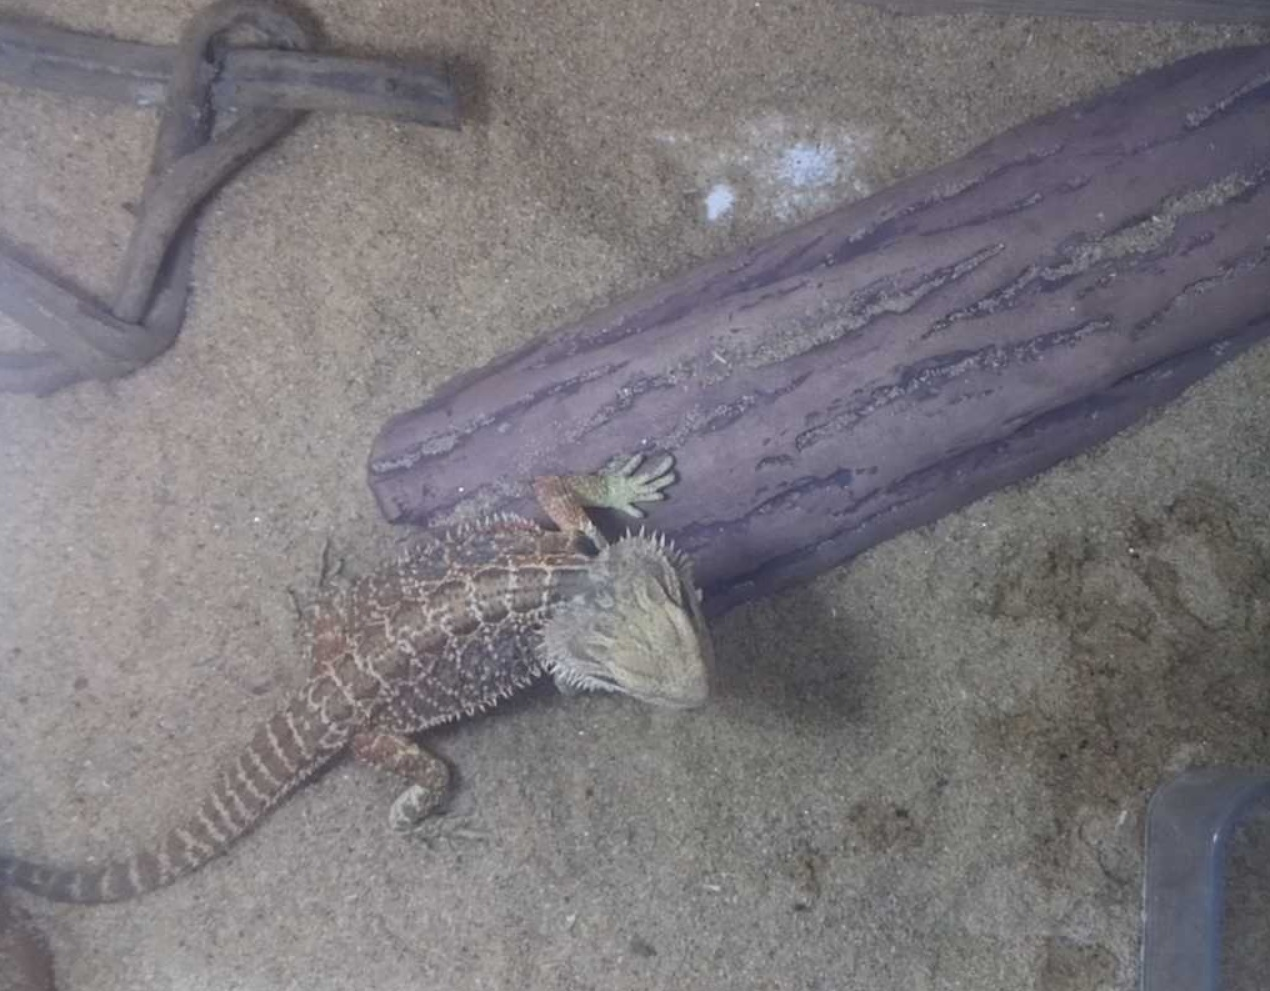bearded: (1, 450, 713, 905)
